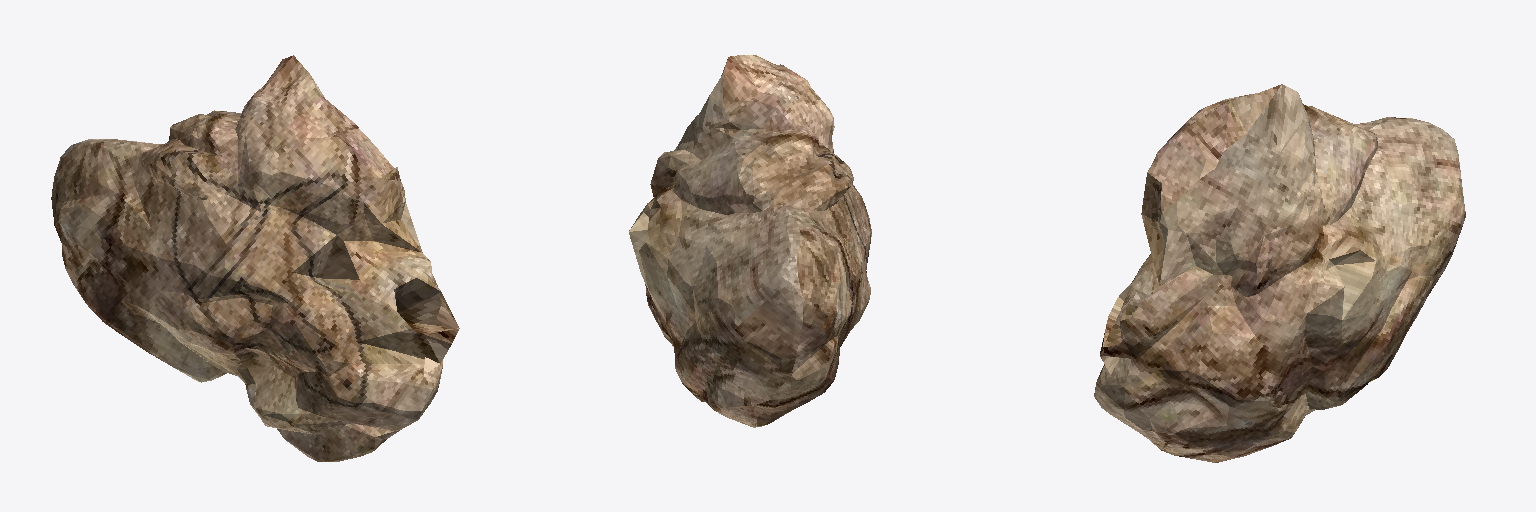
3 renders of one model, left to right at view 1: azimuth 30°, elevation 25°; view 2: azimuth 150°, elevation 25°; view 3: azimuth 270°, elevation 25°, orthographic.
Visible parts, largest first — view 1: Rock; view 2: Rock; view 3: Rock.
Part boxes in pixels (left/top/right/bottom): Rock: left=51, top=55, right=459, bottom=461; Rock: left=629, top=55, right=871, bottom=427; Rock: left=1094, top=84, right=1465, bottom=462.
Bounding box in the file's own units: 75.4 × 103 × 91.21.
1 materials, 1 textured.